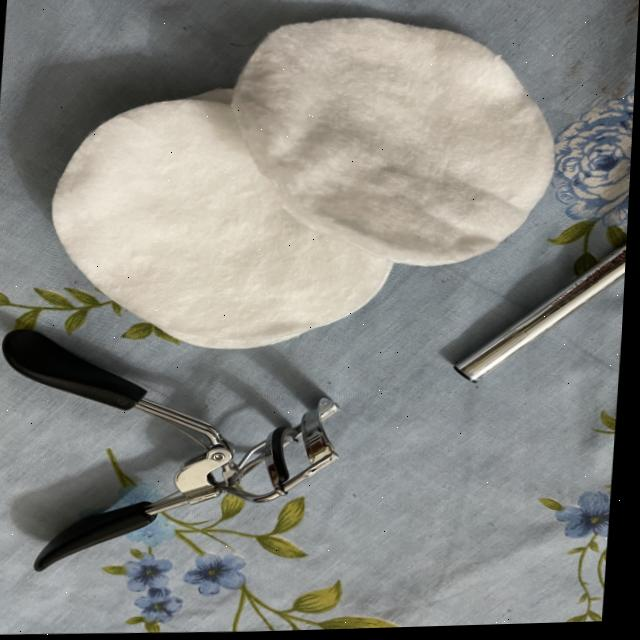eye liner: (442, 266, 629, 413)
eyelash curler: (0, 315, 359, 583)
nail polish remover: (22, 0, 558, 365)
